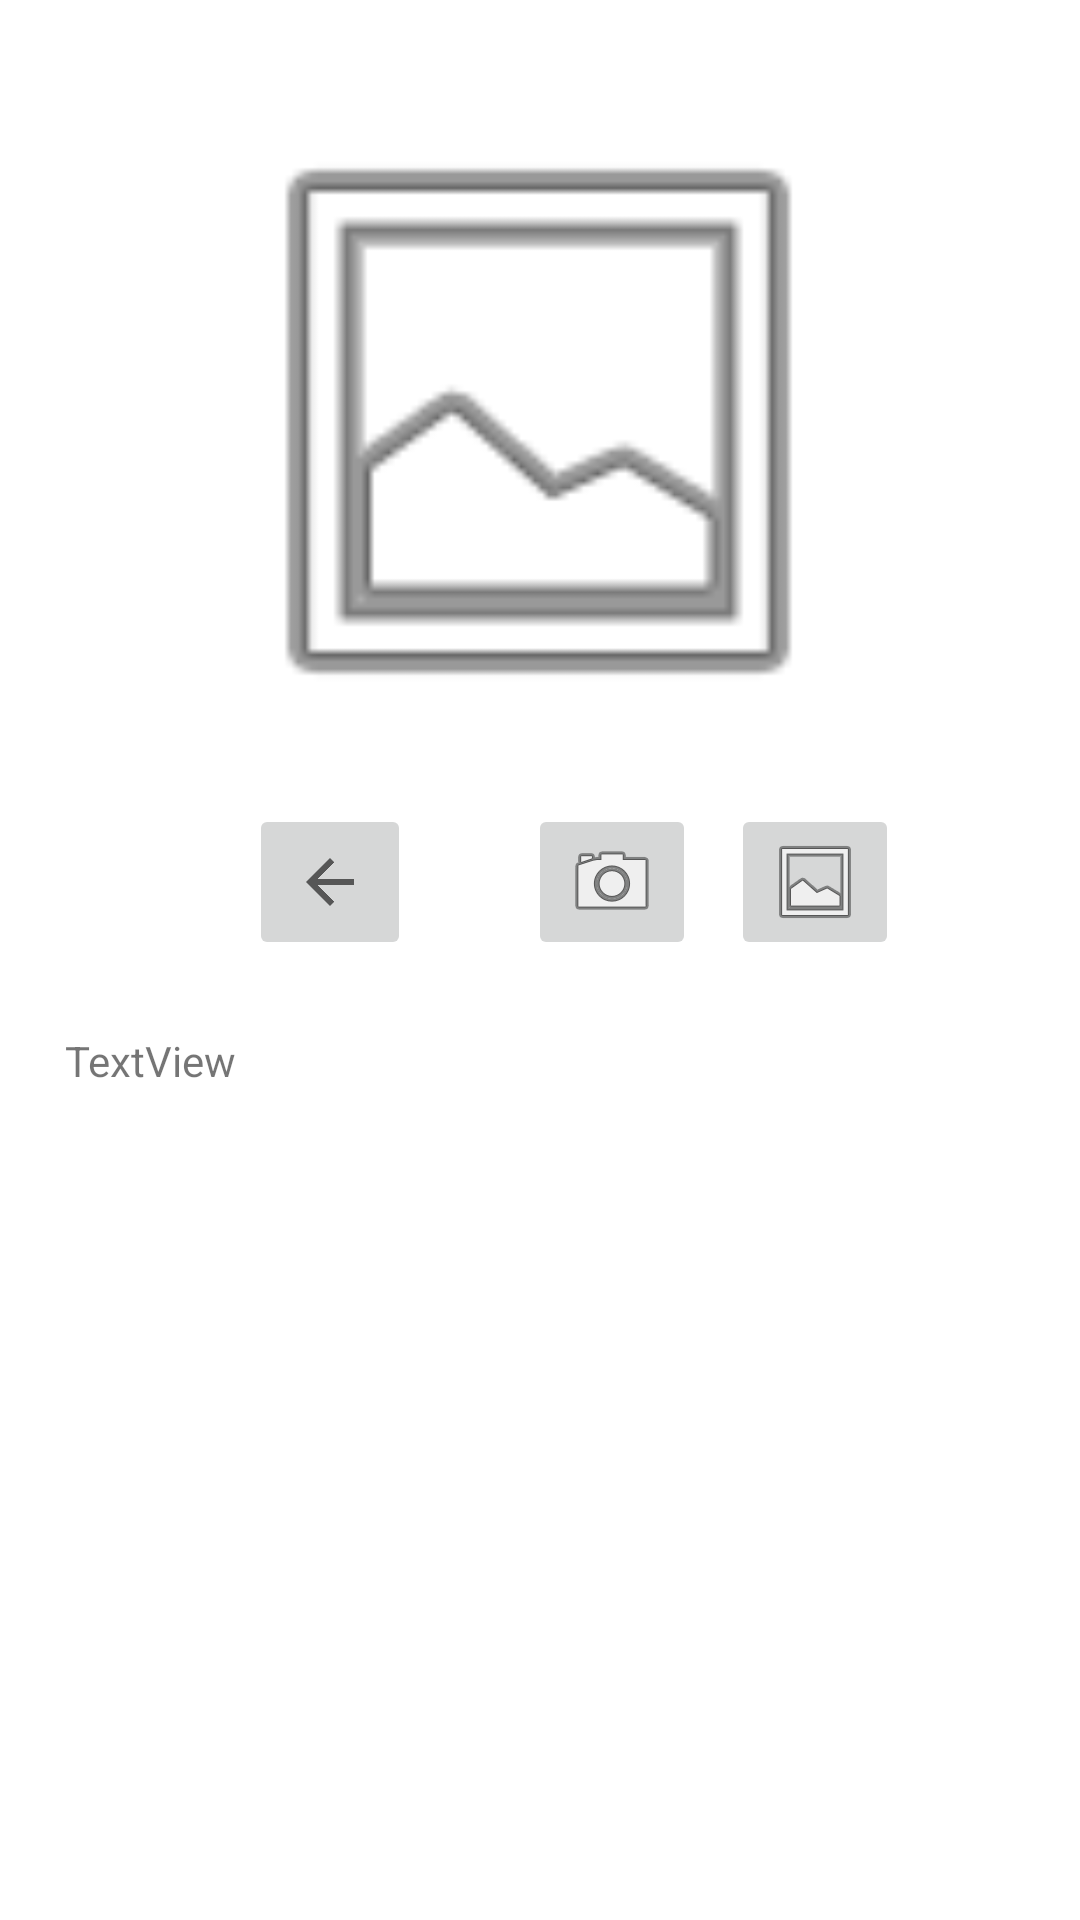

Named icons in this screenshot (1080px×1920px) and their bounding boxes, (x1, y1, x2, y2):
camera: (540, 822, 684, 942)
